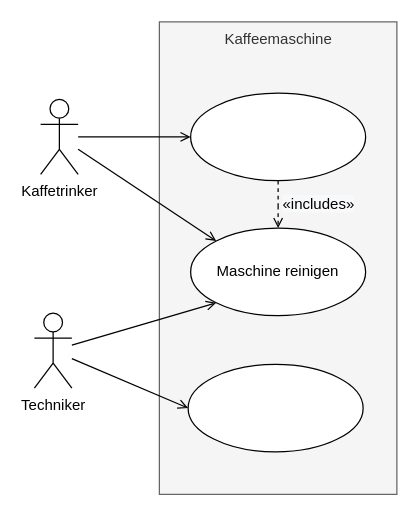
The diagram is 419 pixels wide and 516 high, and some of its shapes have lost their labels. Here are the shapes that lost their labels. From the top down, the centre of each, then its label:
At pixel 277 136: "Kaffee zubereiten".
At pixel 275 407: "Status abrufen".
